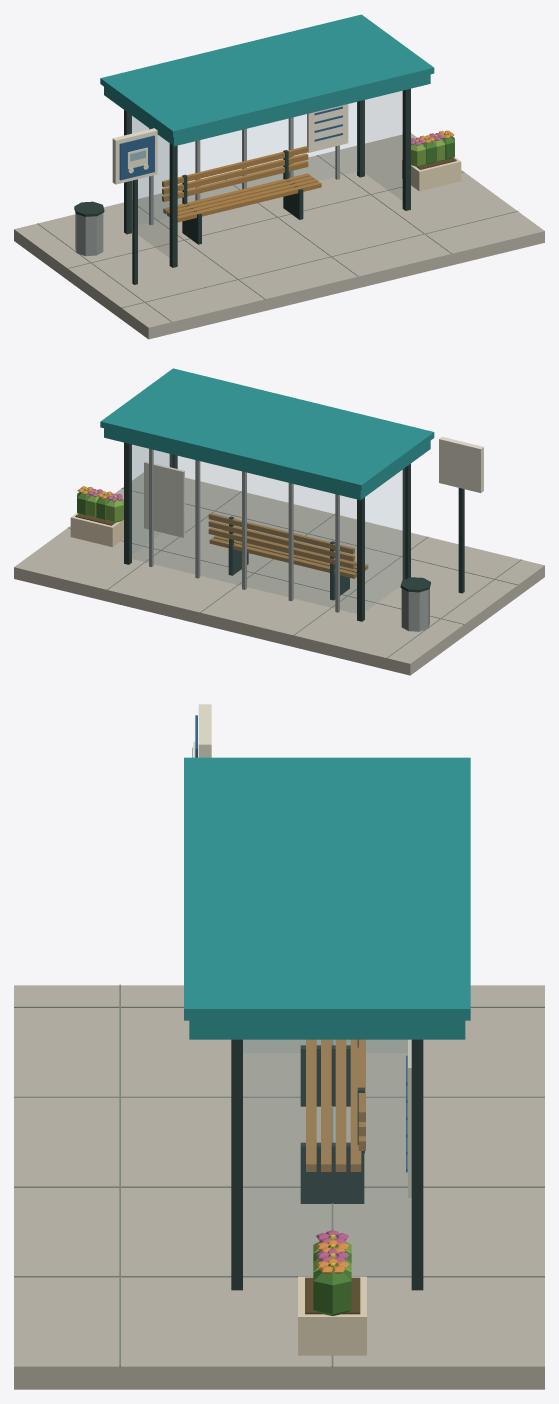
The model's file is 05_BusStop.obj.
3 renders of one model, top to bottom at view 1: azimuth 30°, elevation 25°; view 2: azimuth 150°, elevation 25°; view 3: azimuth 270°, elevation 25°, orthographic. The views are drawn at different scales.
Visible parts, largest first — view 1: 05_BusStop; view 2: 05_BusStop; view 3: 05_BusStop.
Part boxes in pixels (bbox=[...]): 05_BusStop: bbox=[14, 14, 544, 339]; 05_BusStop: bbox=[14, 368, 544, 675]; 05_BusStop: bbox=[14, 704, 544, 1389].
Size of the model in its own units: 8.5 by 3.3 by 5.
Materials: 2 (2 with a texture image).
